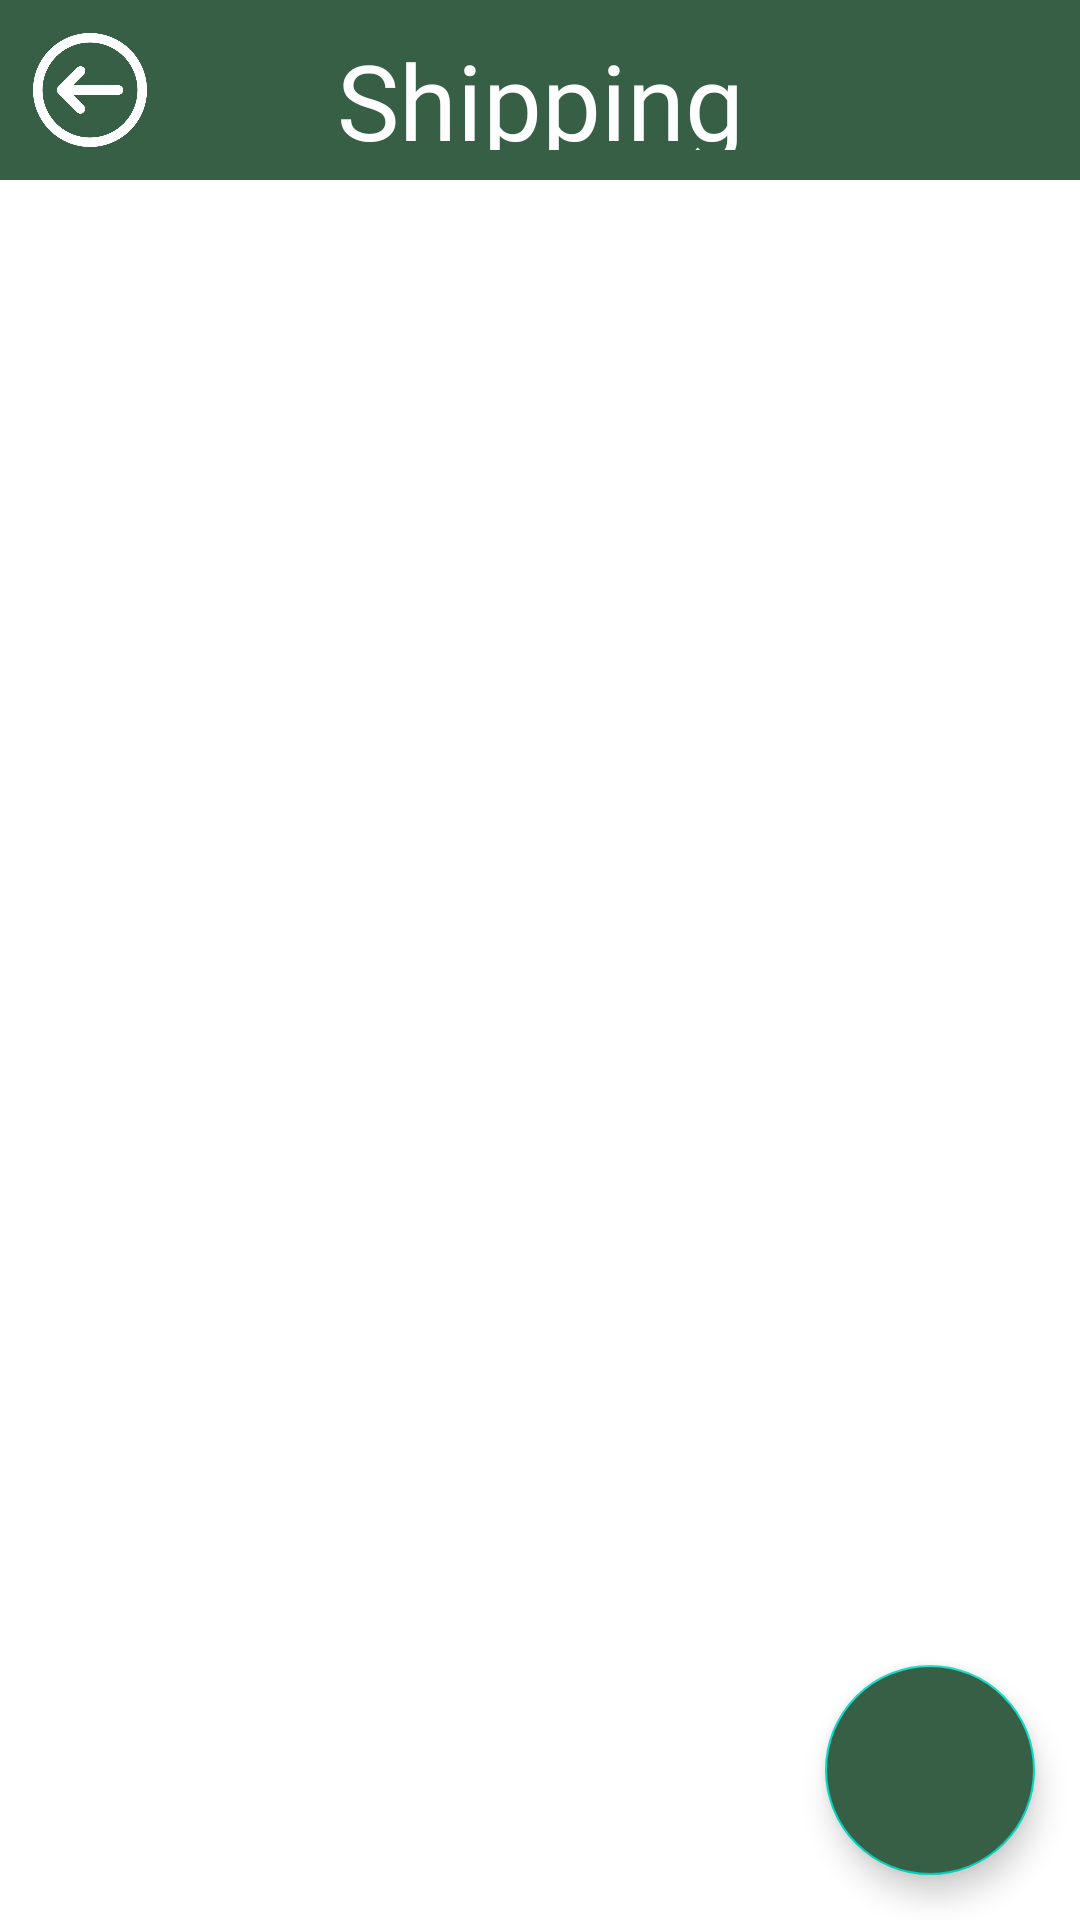

Icons on this 1080w x 1920h Android screen, each with the point to tap as [x,y]:
back: [90,90]
